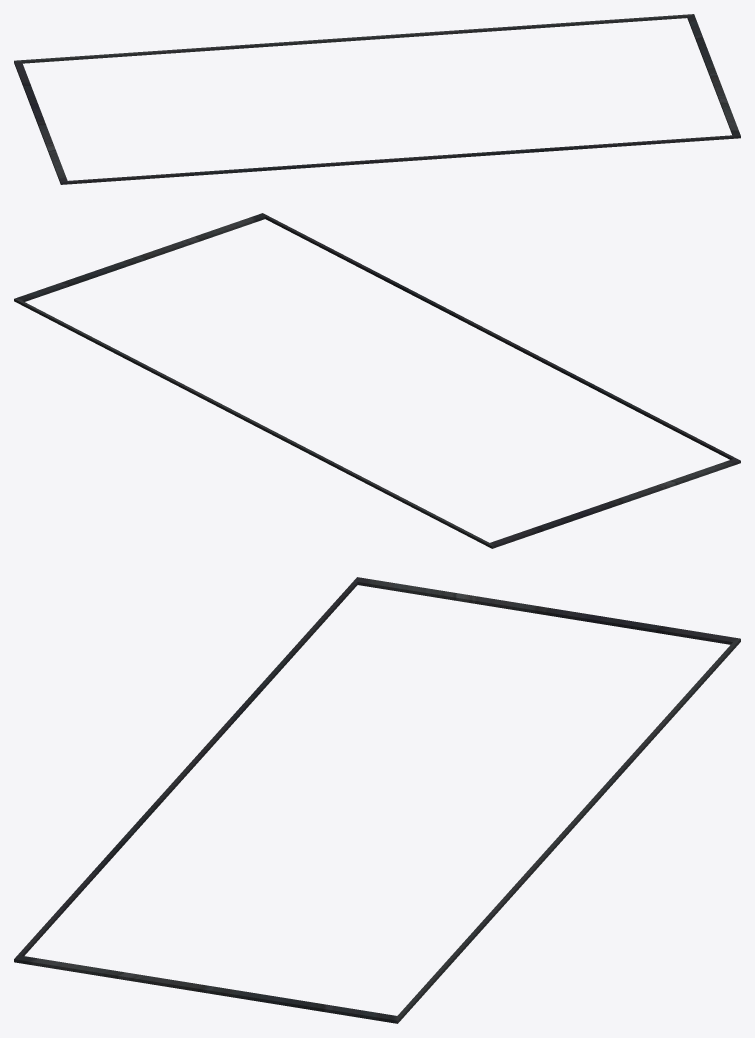
The model's file is H1_F1_CrystalSup.gltf.
3 renders of one model, top to bottom at view 1: azimuth 30°, elevation 25°; view 2: azimuth 150°, elevation 25°; view 3: azimuth 270°, elevation 25°, orthographic. The views are drawn at different scales.
Visible parts, largest first — view 1: H1_F1_CrystalSup; view 2: H1_F1_CrystalSup; view 3: H1_F1_CrystalSup.
Boxes of the visible parts, left/top/right/bottom form: H1_F1_CrystalSup: left=14, top=14, right=740, bottom=184; H1_F1_CrystalSup: left=14, top=213, right=740, bottom=548; H1_F1_CrystalSup: left=14, top=577, right=740, bottom=1023.
Bounding box in the file's own units: 49.82 × 0.1656 × 34.5.
Materials: 1 (1 with a texture image).
